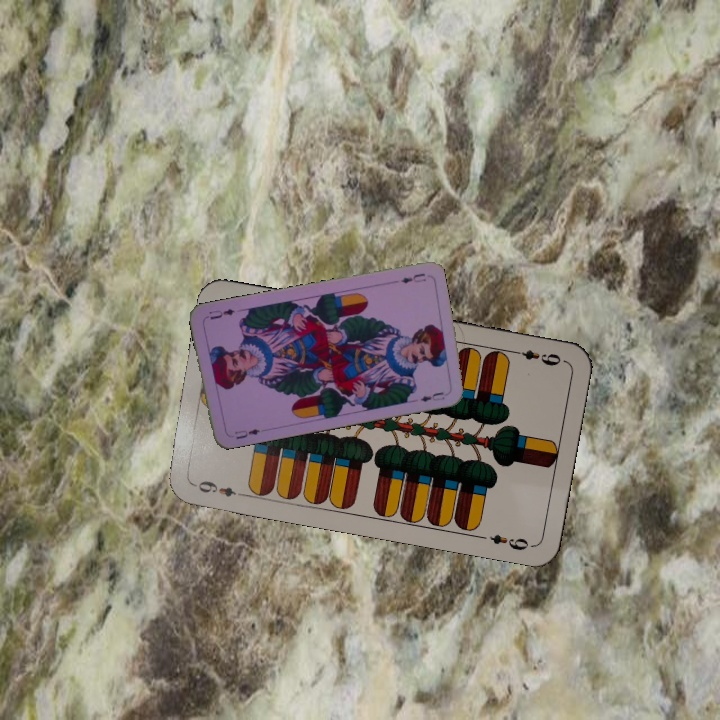E9: (189, 477, 248, 500), (508, 346, 567, 368)
EU: (230, 424, 262, 442), (397, 269, 429, 286)
